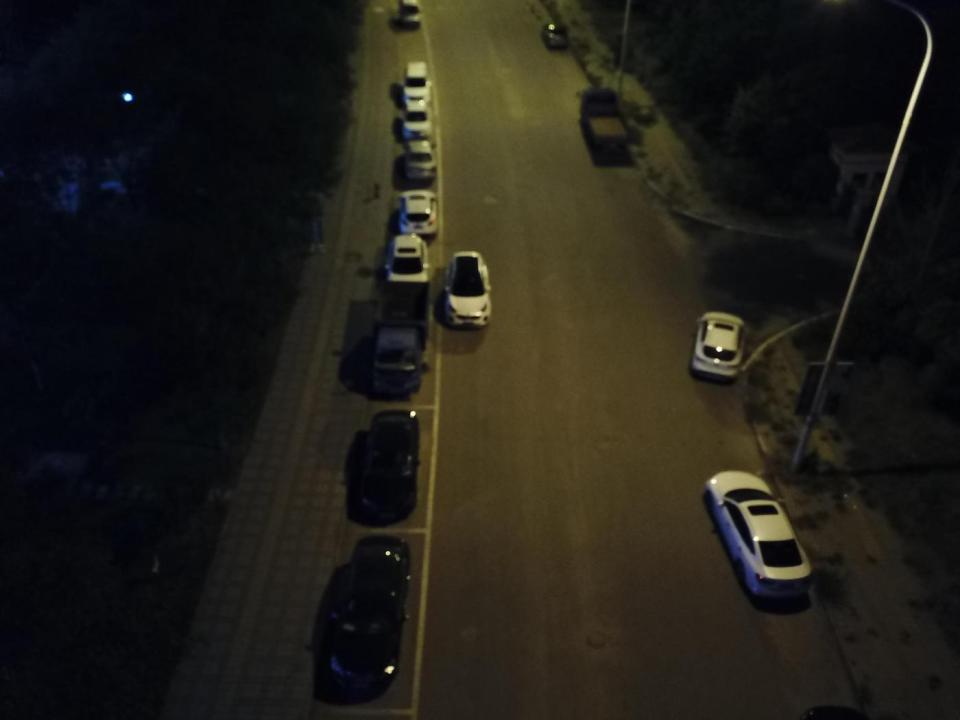car: (701, 469, 815, 600), (322, 532, 412, 696), (355, 410, 423, 522), (441, 247, 494, 330), (689, 310, 749, 381), (384, 228, 430, 284), (394, 184, 440, 240), (402, 134, 440, 182), (400, 62, 433, 104), (402, 100, 432, 139), (540, 18, 572, 51), (398, 0, 423, 29)
truck: (368, 277, 433, 398), (576, 86, 630, 156)
